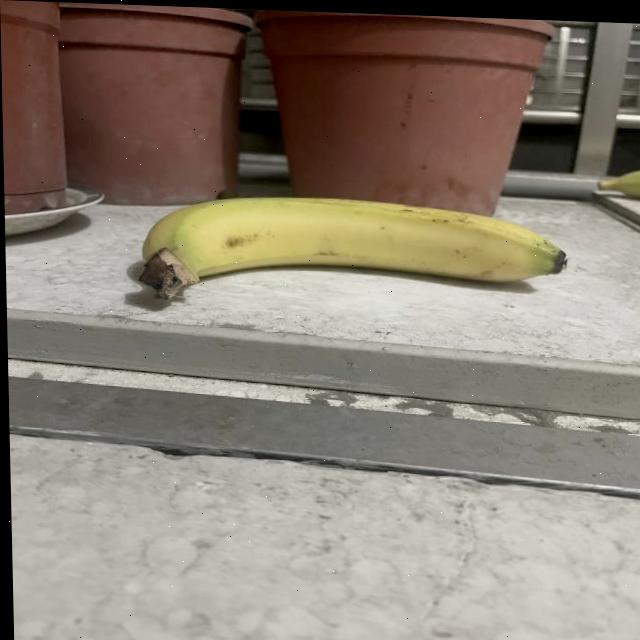banana: (129, 183, 578, 321)
